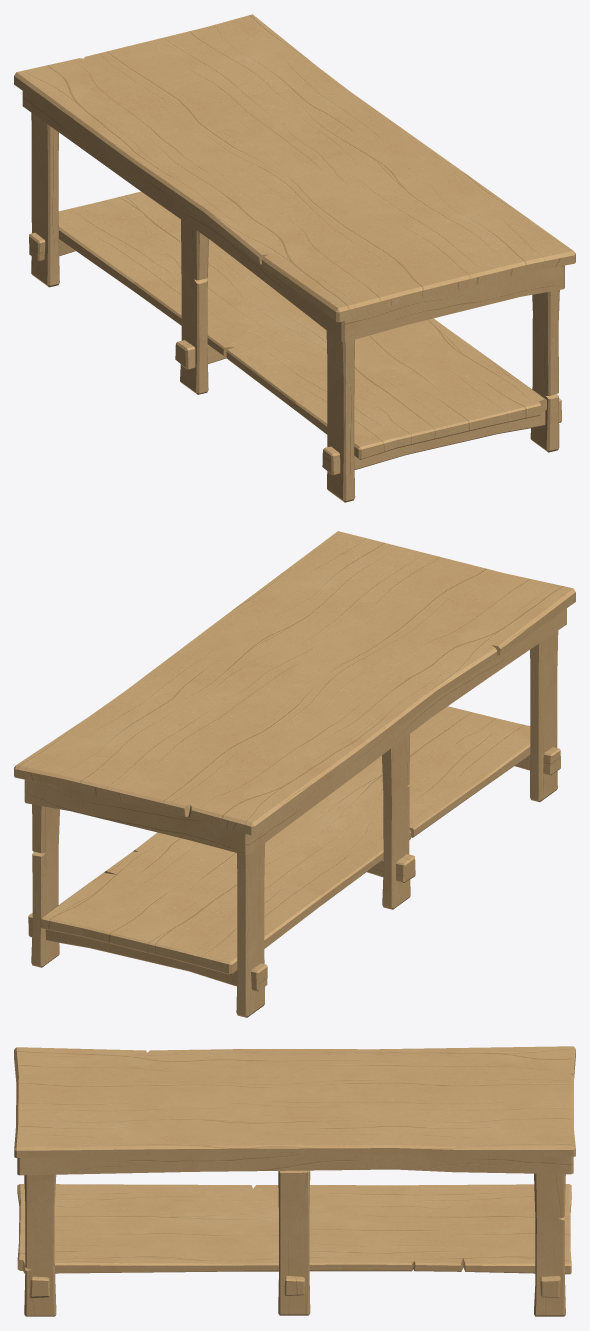
File: Model_Table_TILED.FBX
3 renders of one model, top to bottom at view 1: azimuth 30°, elevation 25°; view 2: azimuth 150°, elevation 25°; view 3: azimuth 270°, elevation 25°, orthographic. The views are drawn at different scales.
Parts seen in each view (by area): view 1: Table_Stylised_TILED; view 2: Table_Stylised_TILED; view 3: Table_Stylised_TILED.
Part boxes in pixels (<box>): Table_Stylised_TILED: <box>14,14,575,502</box>; Table_Stylised_TILED: <box>14,531,575,1017</box>; Table_Stylised_TILED: <box>14,1046,575,1316</box>.
Bounding box in the file's own units: 150 × 120 × 350.
